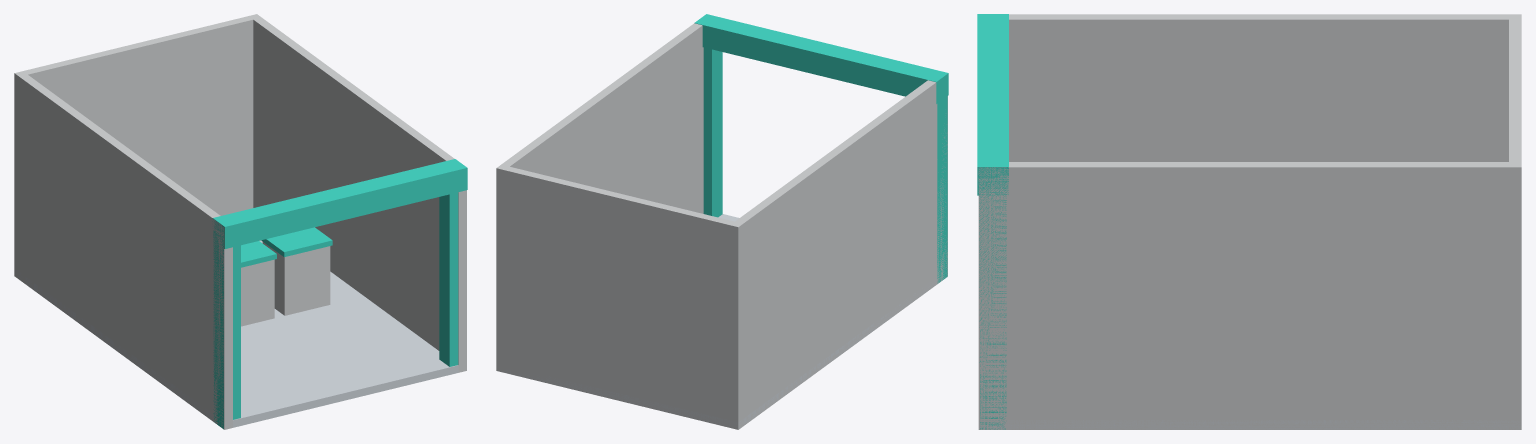
3 views of the same model, side by side, from view 1: azimuth 30°, elevation 25°; view 2: azimuth 150°, elevation 25°; view 3: azimuth 270°, elevation 25° (orthographic). The views are drawn at different scales.
Visible parts, largest first — view 1: Exhibition Booth Concept; view 2: Exhibition Booth Concept; view 3: Exhibition Booth Concept.
Part boxes in pixels (<box>): Exhibition Booth Concept: <box>14,14,467,429</box>; Exhibition Booth Concept: <box>496,14,948,429</box>; Exhibition Booth Concept: <box>977,14,1521,429</box>.
Size of the model in its own units: 4 by 3.2 by 6.02.
